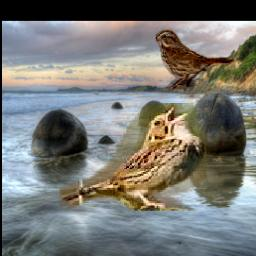Sparrow: (60, 103, 206, 211), (156, 28, 235, 90)
